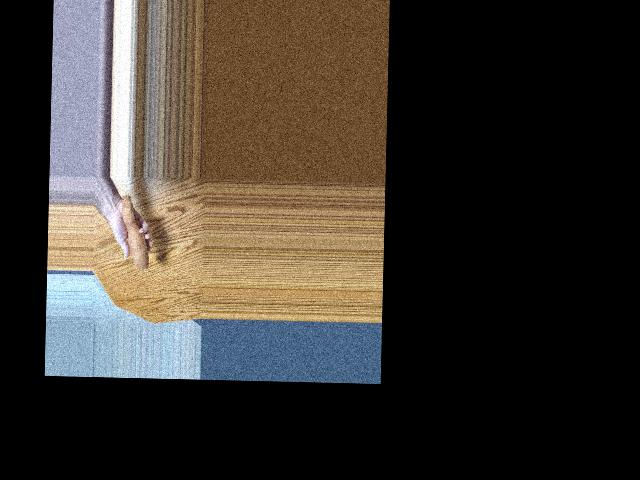sweet_potato: (120, 187, 153, 270)
